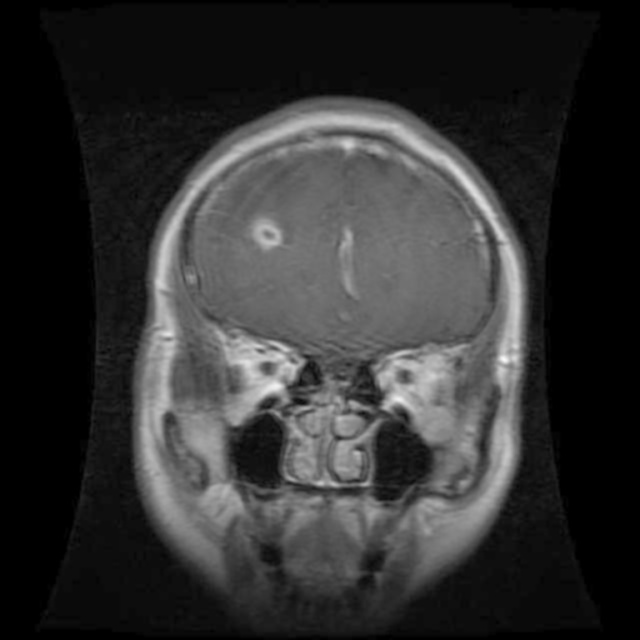pituitary tumor: (248, 216, 292, 252)
